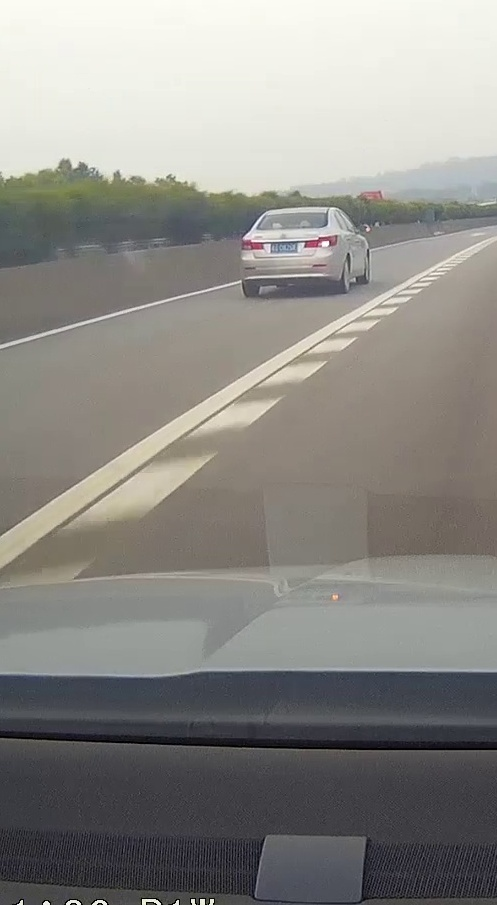L_light: (241, 239, 263, 250)
R_light: (304, 235, 337, 247)
T_light: (289, 211, 303, 216)
day-right: (240, 207, 339, 297)
